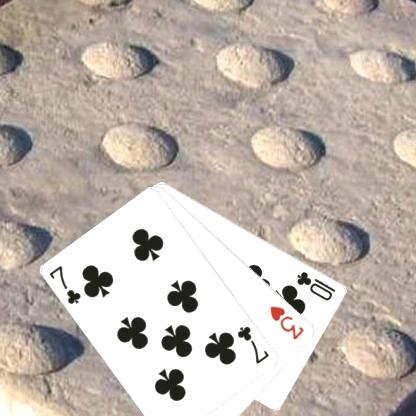10C: (294, 268, 338, 302)
3H: (267, 303, 306, 341)
7C: (46, 262, 83, 306), (235, 323, 270, 365)
